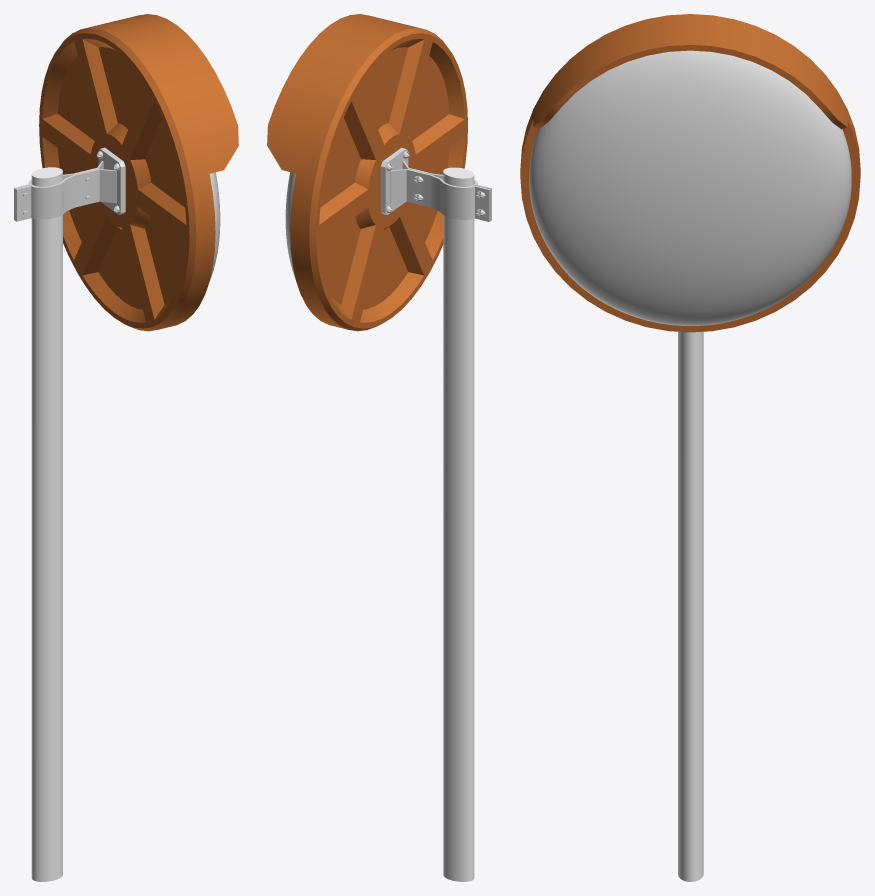
The model's file is convex.glb.
3 renders of one model, left to right at view 1: azimuth 30°, elevation 25°; view 2: azimuth 150°, elevation 25°; view 3: azimuth 270°, elevation 25°, orthographic. The views are drawn at different scales.
Visible parts, largest first — view 1: convex mirror_0; view 2: convex mirror_0; view 3: convex mirror_0.
Part boxes in pixels (left/top/right/bottom): convex mirror_0: left=14, top=14, right=238, bottom=881; convex mirror_0: left=267, top=14, right=491, bottom=881; convex mirror_0: left=520, top=14, right=860, bottom=881.
Size of the model in its own units: 0.3368 by 1.63 by 0.5597.
